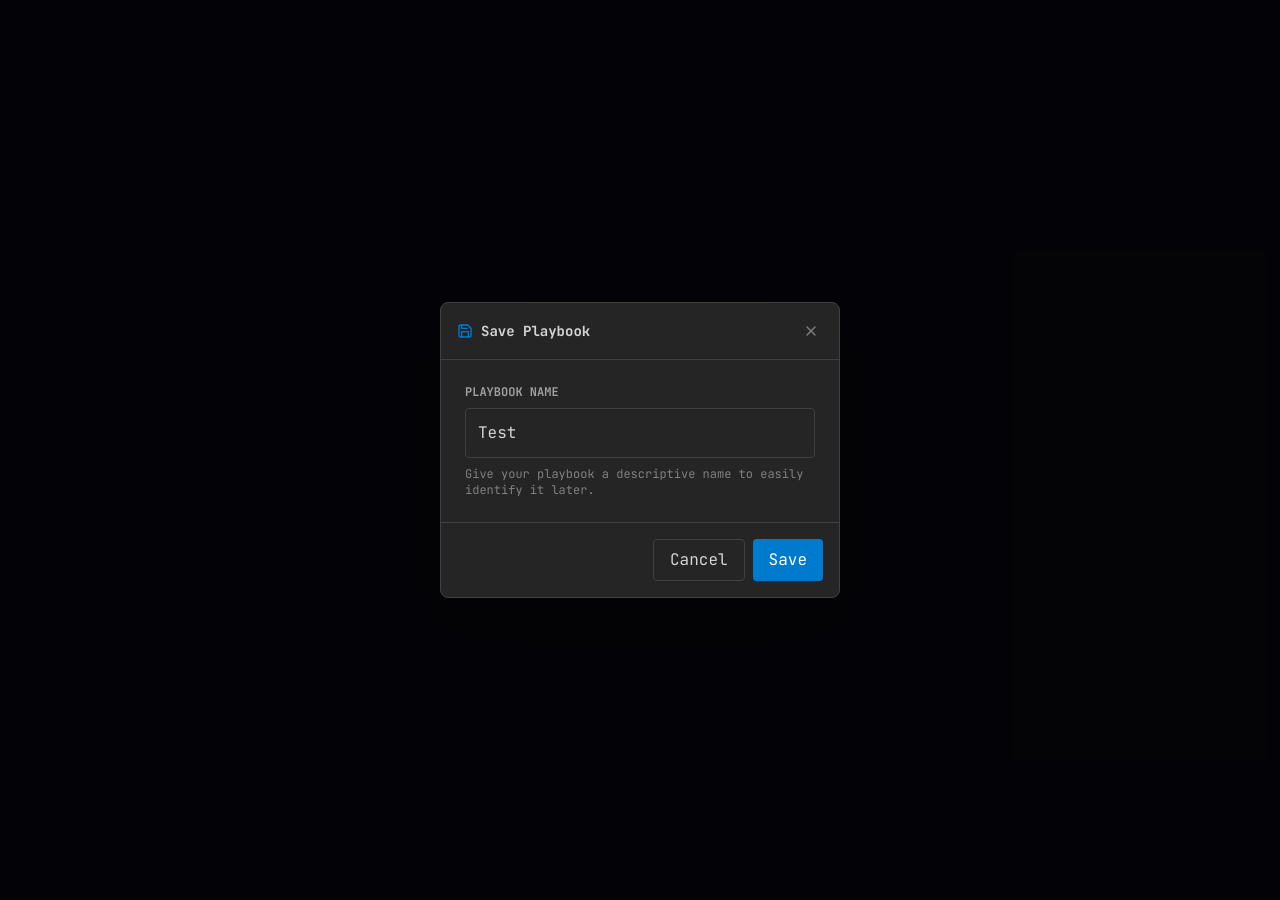
Test: PlaybookNameModal › validation › should disable save button when all characters are deleted
Expected: the button "Save" is enabled, [753,539,823,581]
Clear the field with placeholder "Enter playbook name...": (640, 433) [465,408,815,458]
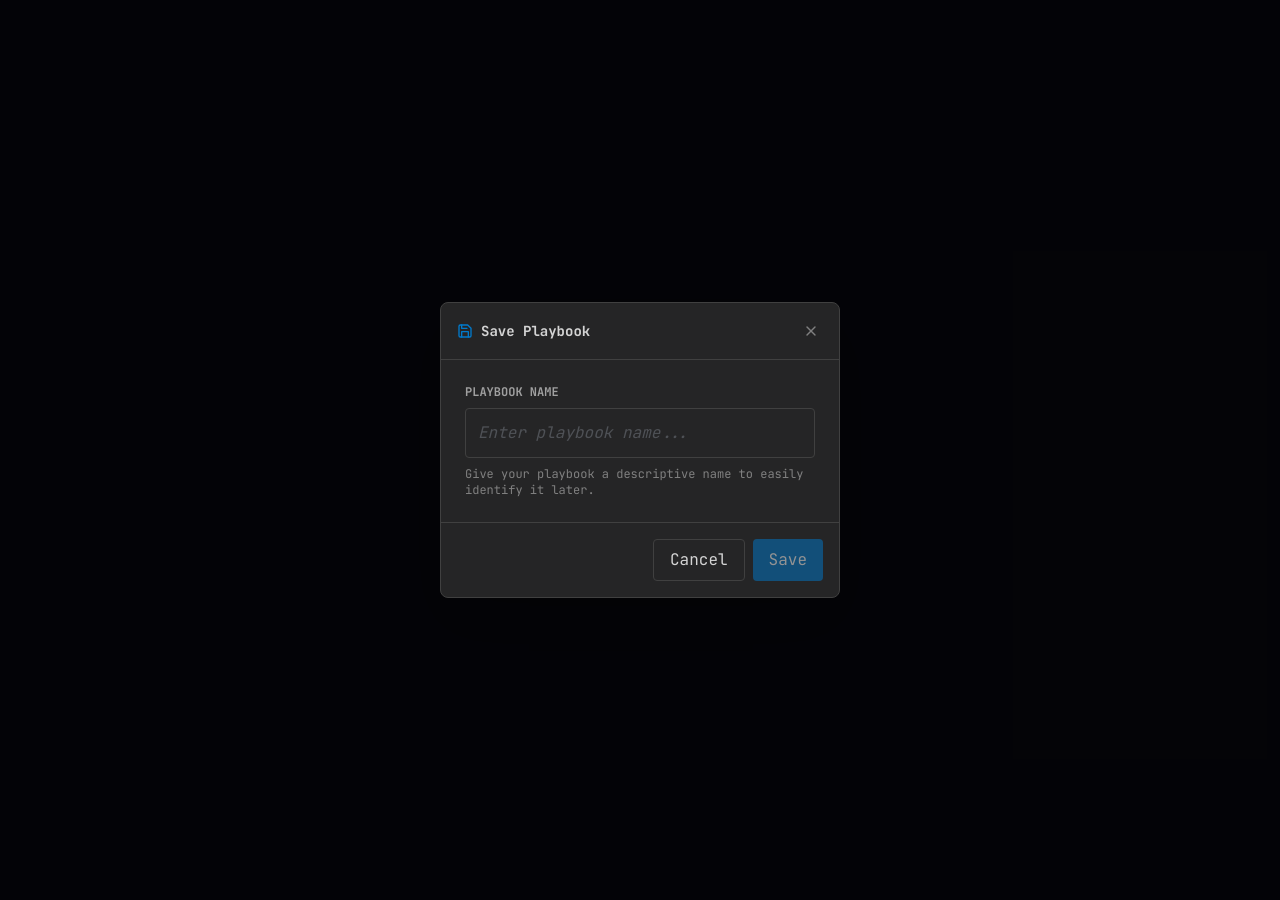
Result: the button "Save" is disabled at [753,539,823,581]
